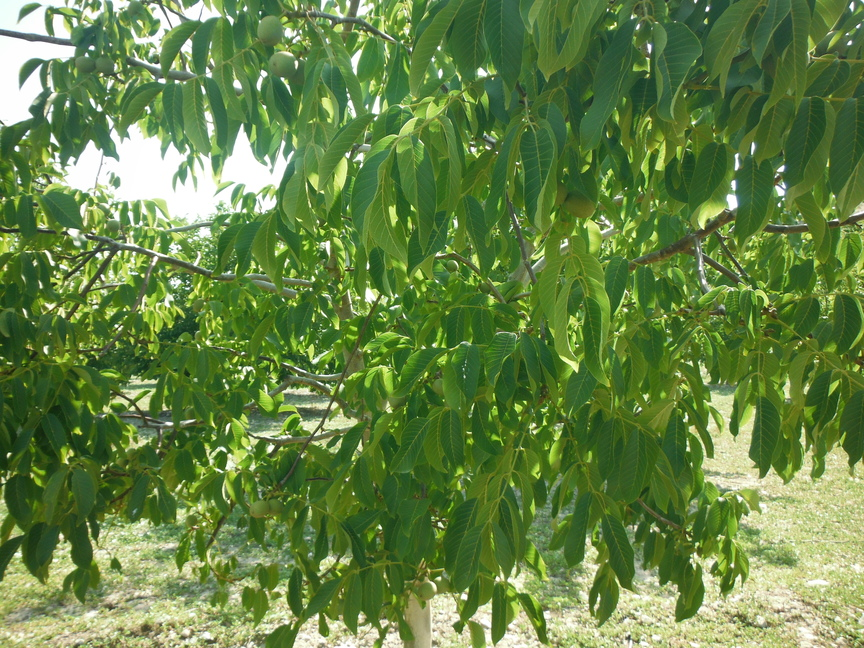walnut: (253, 10, 288, 50), (565, 185, 600, 223), (265, 48, 303, 81), (0, 300, 21, 343), (242, 494, 271, 523), (547, 178, 571, 210), (72, 52, 98, 76), (431, 572, 455, 598), (415, 577, 439, 602), (388, 387, 408, 413), (95, 56, 118, 77), (265, 495, 286, 518), (104, 215, 122, 238), (431, 374, 448, 397), (443, 255, 462, 275), (111, 453, 130, 470), (477, 278, 493, 296), (192, 296, 208, 314), (97, 200, 113, 216), (124, 443, 138, 461), (192, 327, 207, 343)
